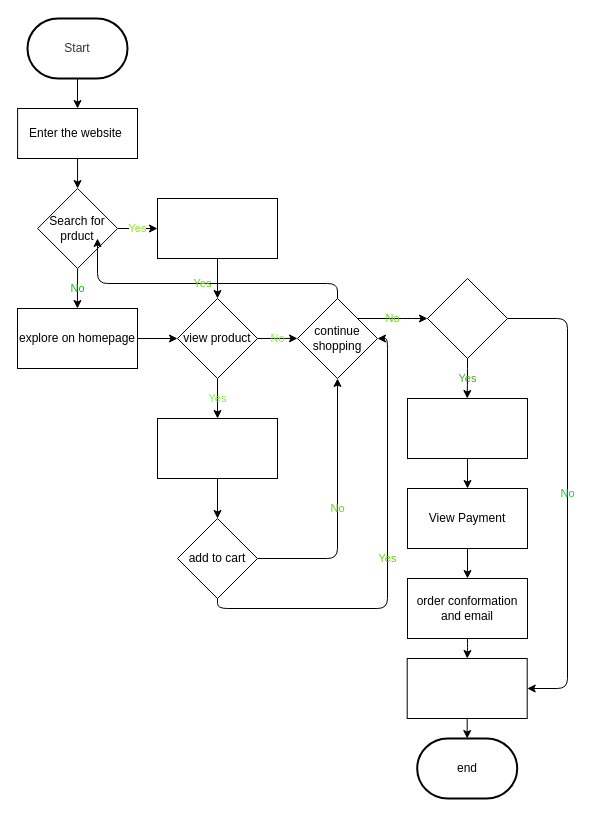
This 593x816 diagram has some shape labels left out. Here are the shapes that lost their labels. From the top down, the centre of each, then its label:
the point at 217,228: get result of the search
the point at 467,318: check out
the point at 217,448: open webpage
the point at 467,428: View Cart
the point at 466,688: leave website
